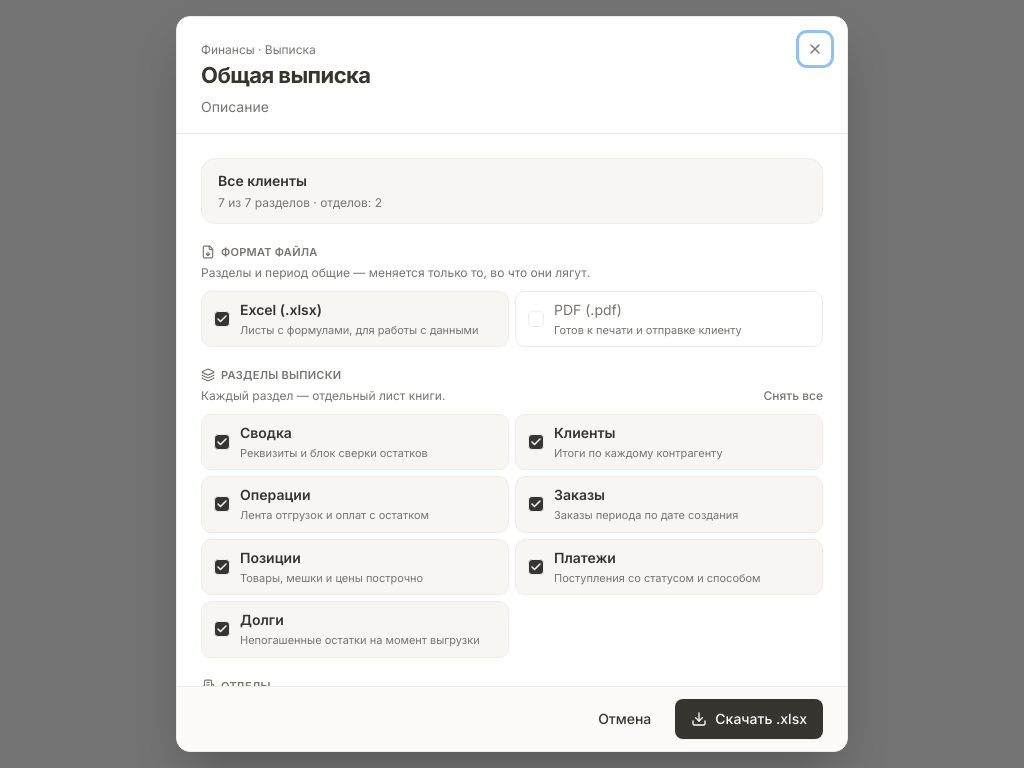
Scenario: StatementExportModal › blocks the download when no section is selected
The image size is (1024, 768).
Click the button with aria-label "Снять все: разделы".
click(793, 396)  # box left=764, top=388, right=823, bottom=404
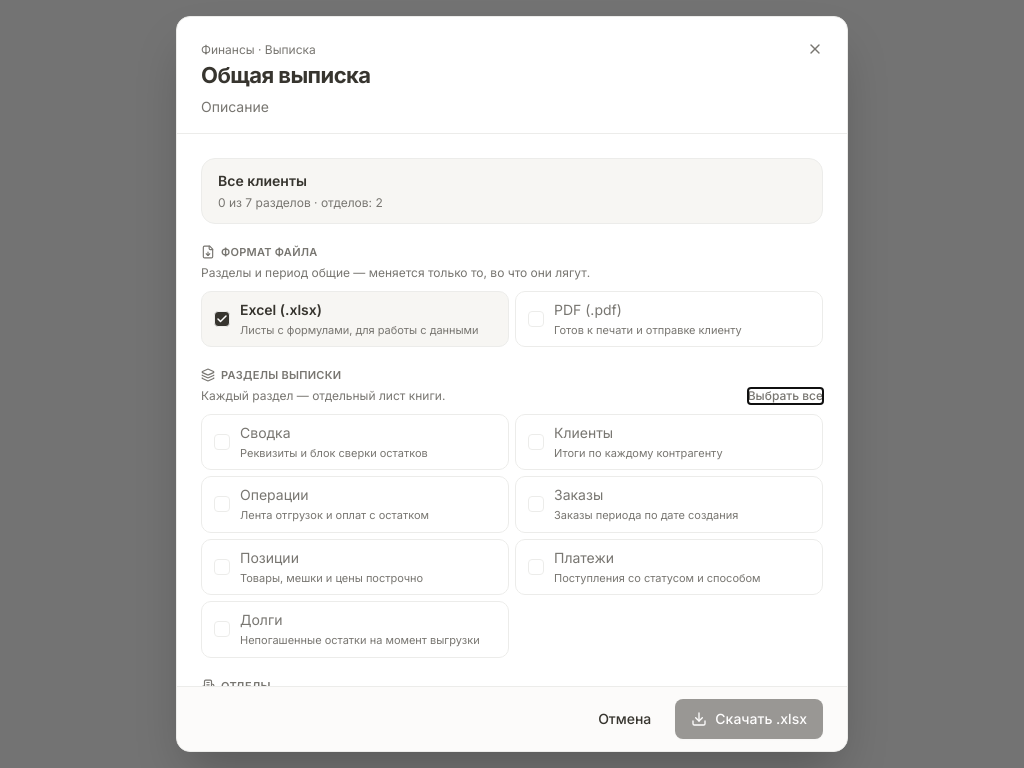
Expected: the button "Скачать .xlsx" is disabled, left=675, top=699, right=823, bottom=739
